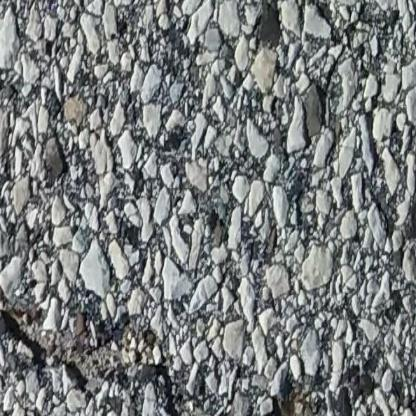Cracks: (69, 335, 204, 416), (0, 262, 57, 369), (229, 384, 338, 416)
